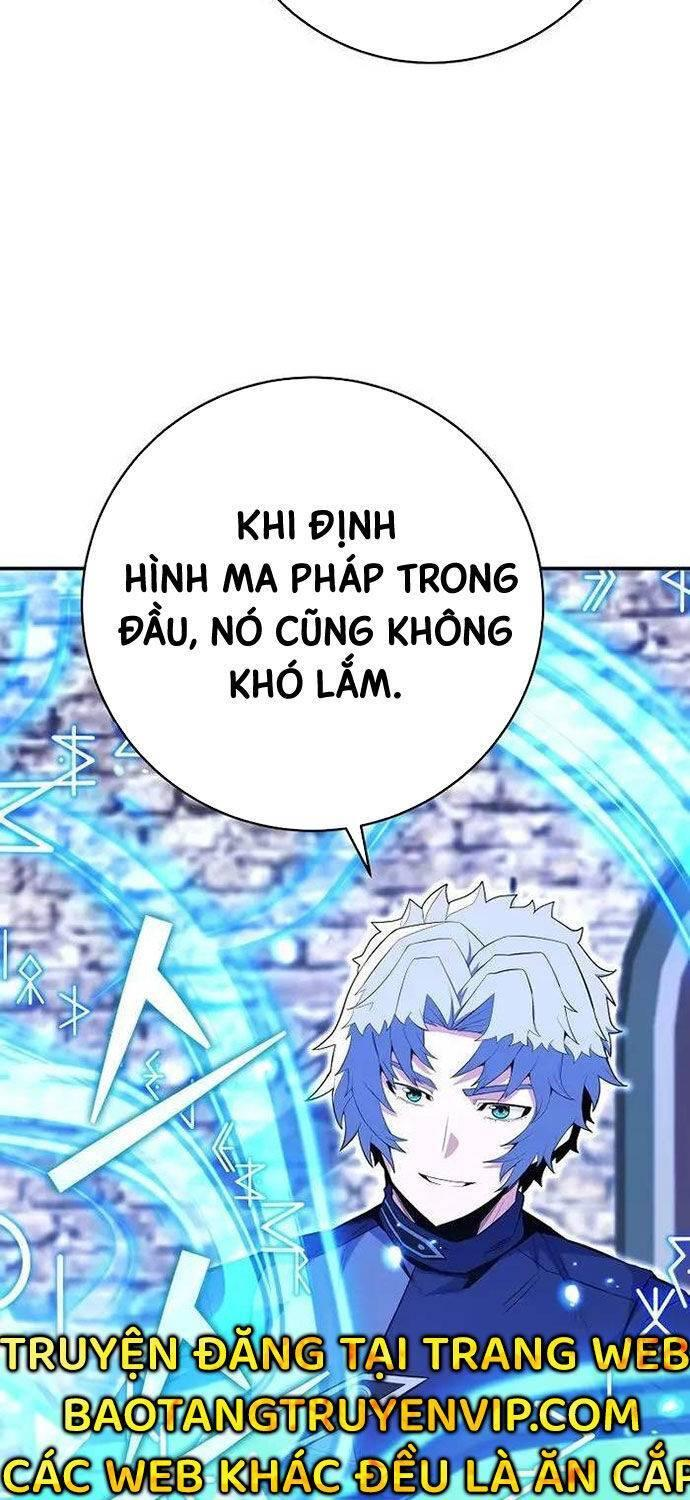quangcao: (0, 1318, 690, 1500)
